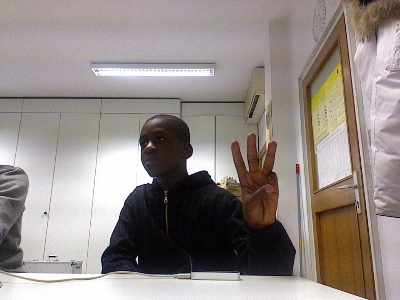三分: (230, 132, 278, 227)
